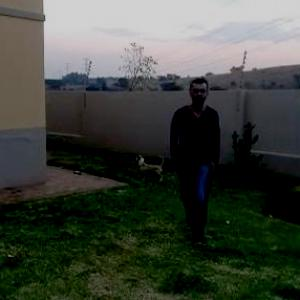follow: (167, 74, 218, 232)
